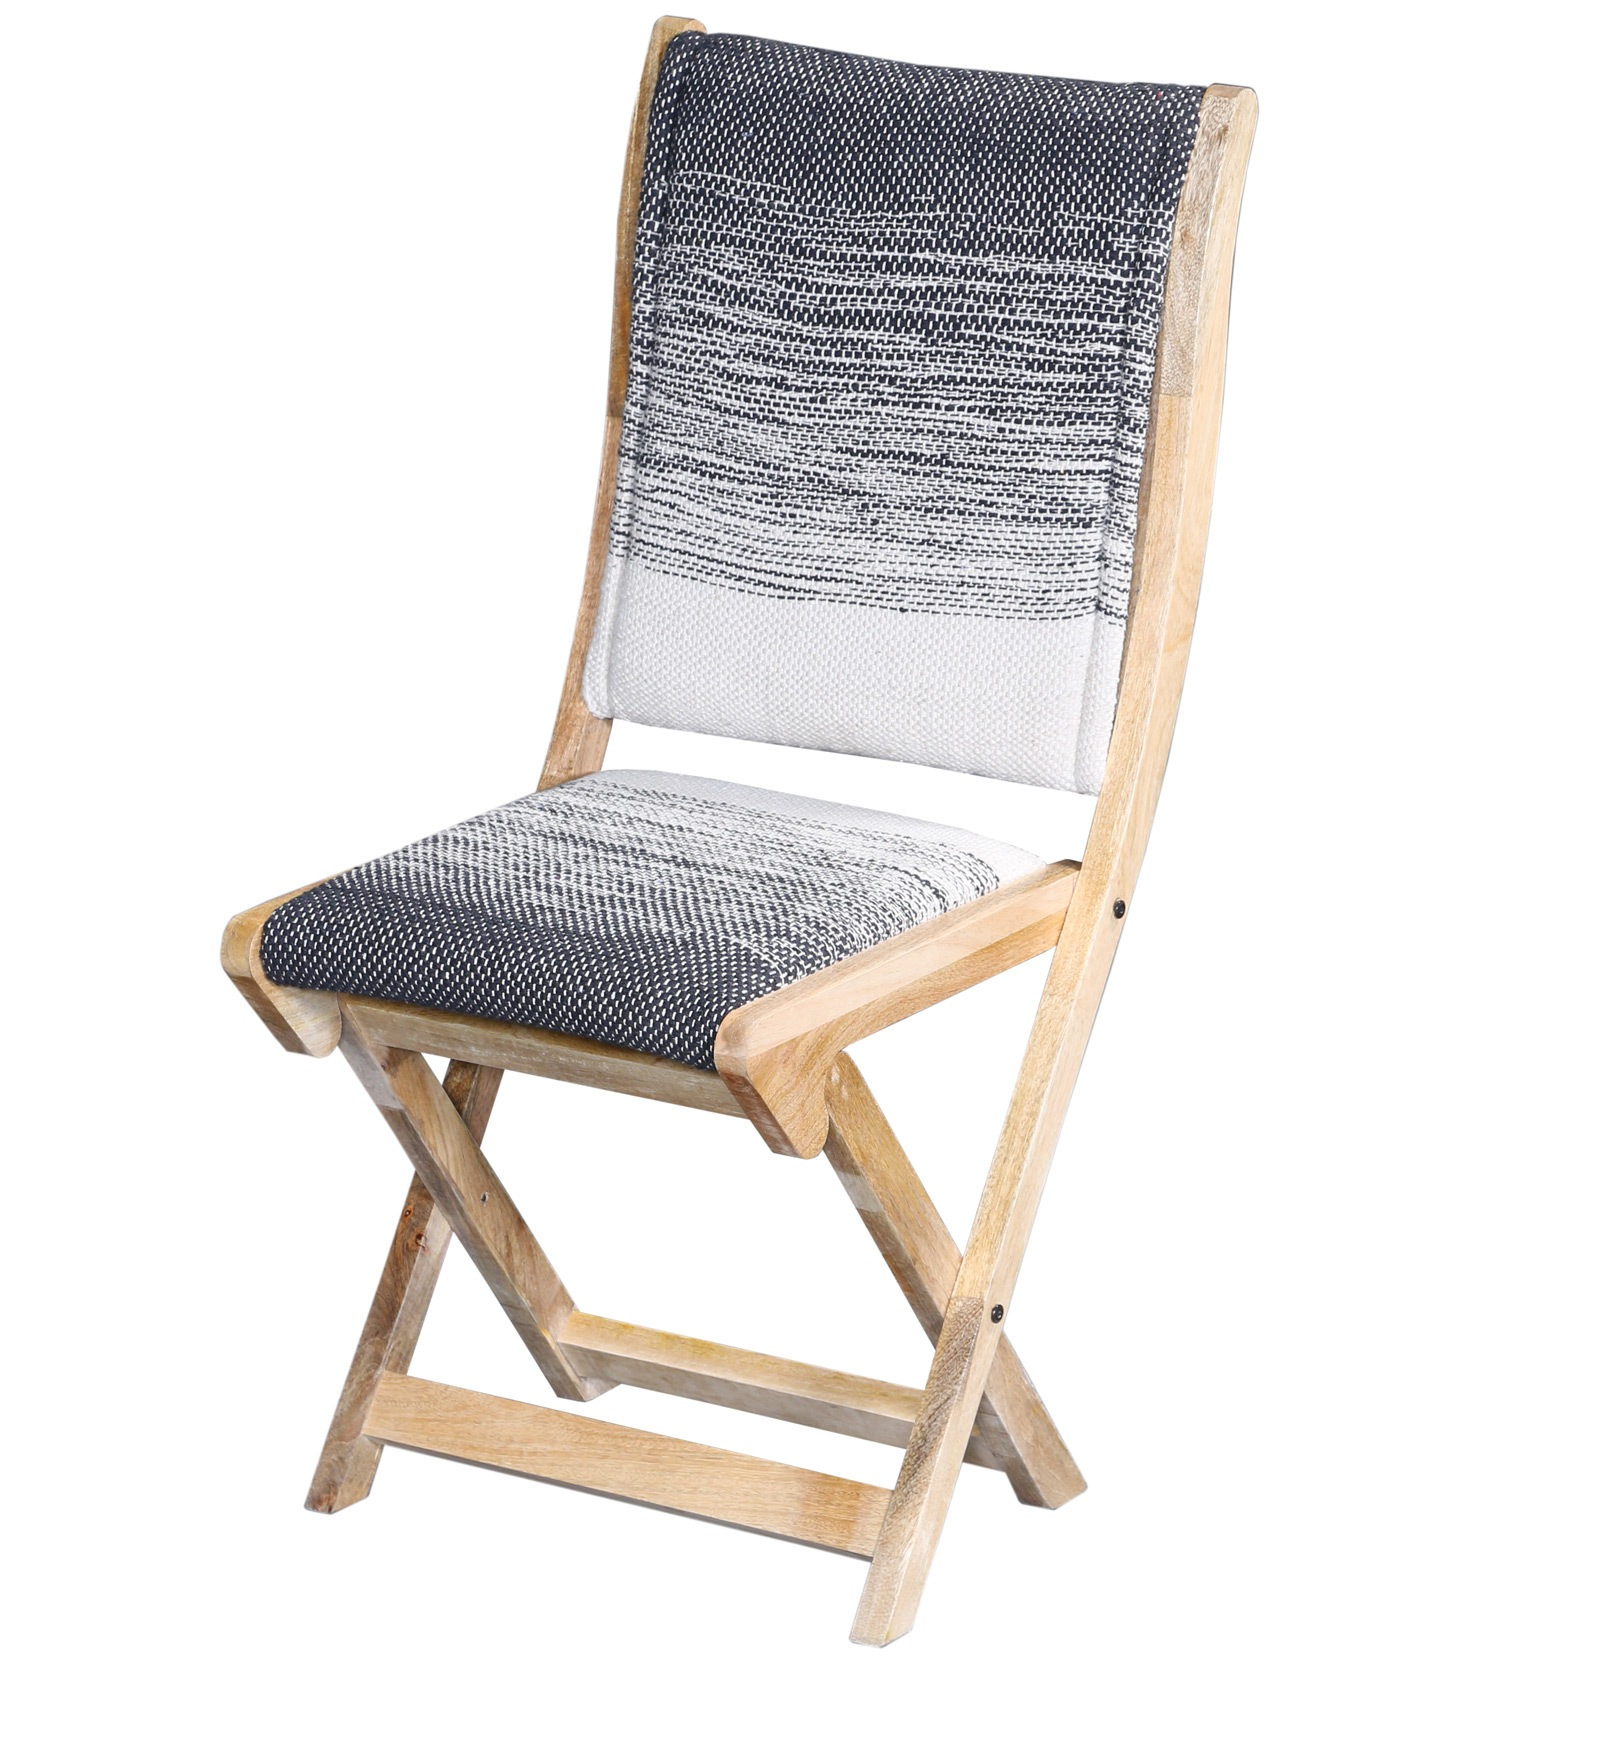Horan Folding Chair by Bohemiana: (250, 8, 1284, 1728)
